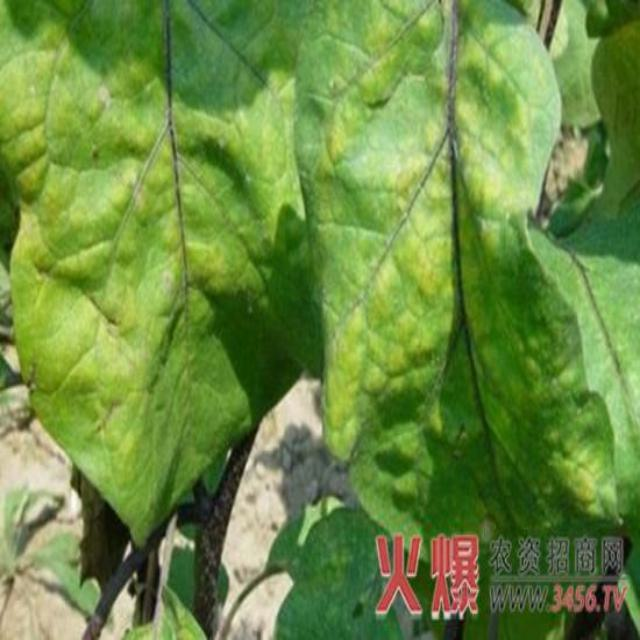Leaf_Mold: (2, 26, 302, 544), (317, 1, 535, 464)
